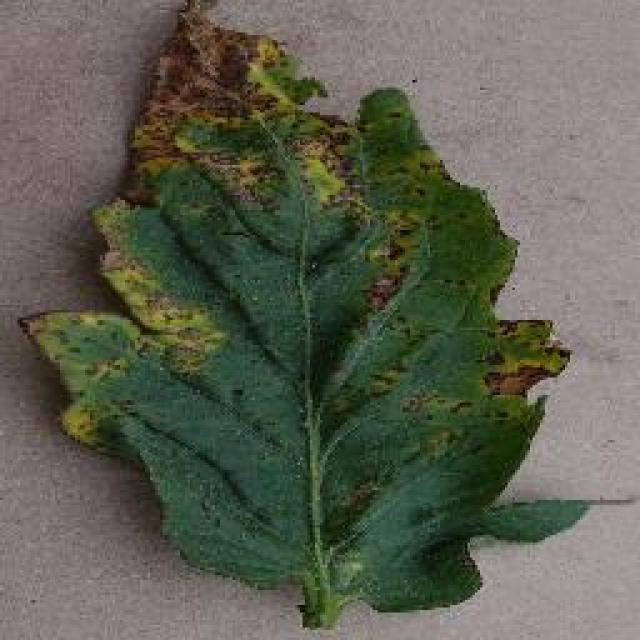Tomato bacterial spot leaf: (8, 0, 638, 618)
